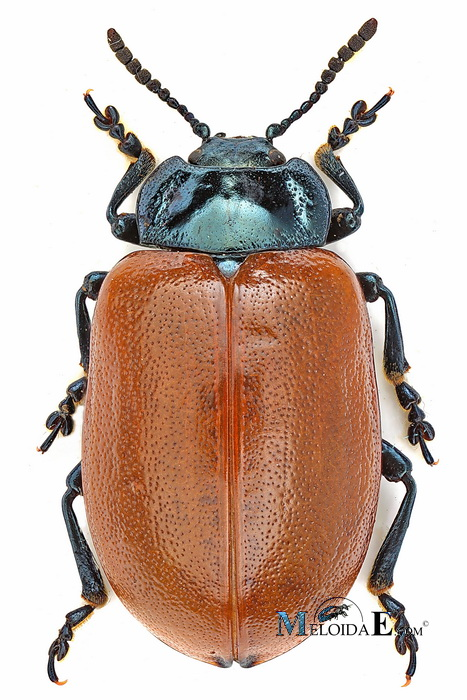Chrysomela_populi: (25, 6, 443, 687)
